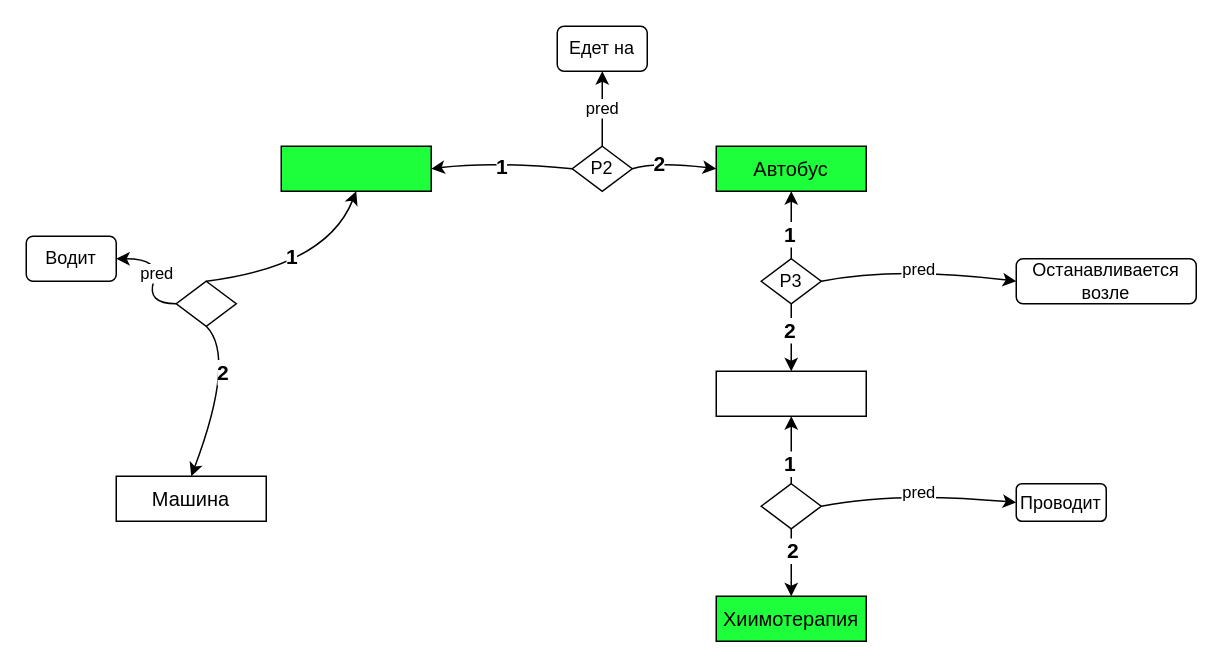
Some shapes in this 1223 by 668 pixel diagram are drawn without their labels. Each missing label, with the centre of its shape:
P1: the point at 205,303
P4: the point at 790,505
Больница: the point at 790,393
Водитель: the point at 355,168
